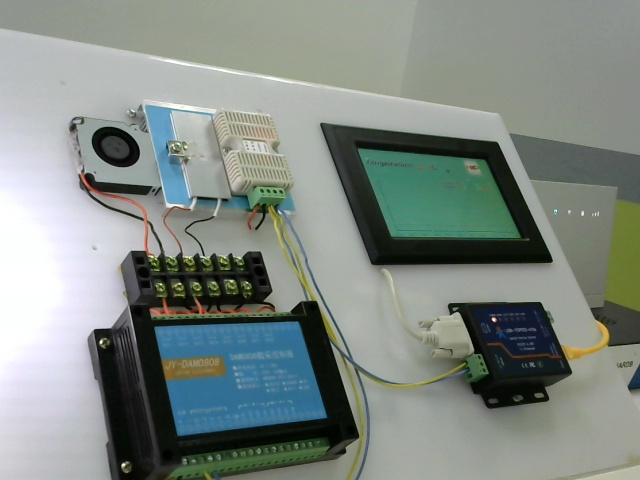fan: (67, 112, 164, 205)
modbus bridge: (451, 295, 580, 420)
relay: (84, 305, 365, 480)
termperature: (215, 105, 297, 200)
